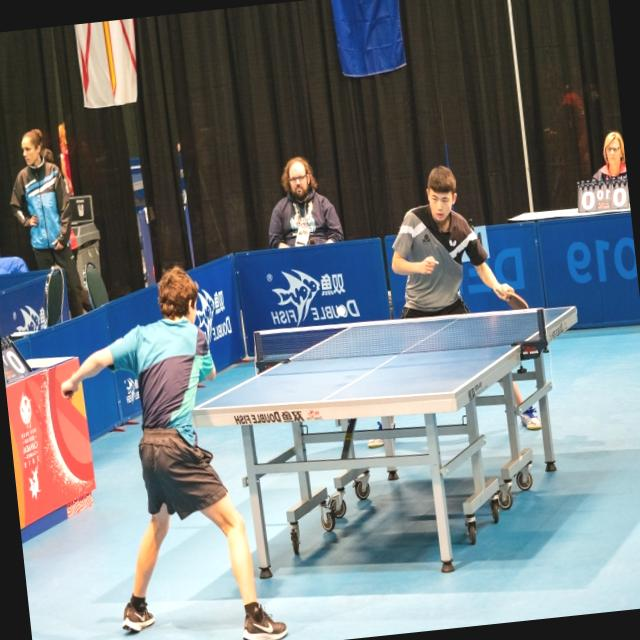TT Net: (252, 305, 549, 368)
TT Racket: (486, 275, 532, 321)
TT Table: (189, 304, 578, 413)
